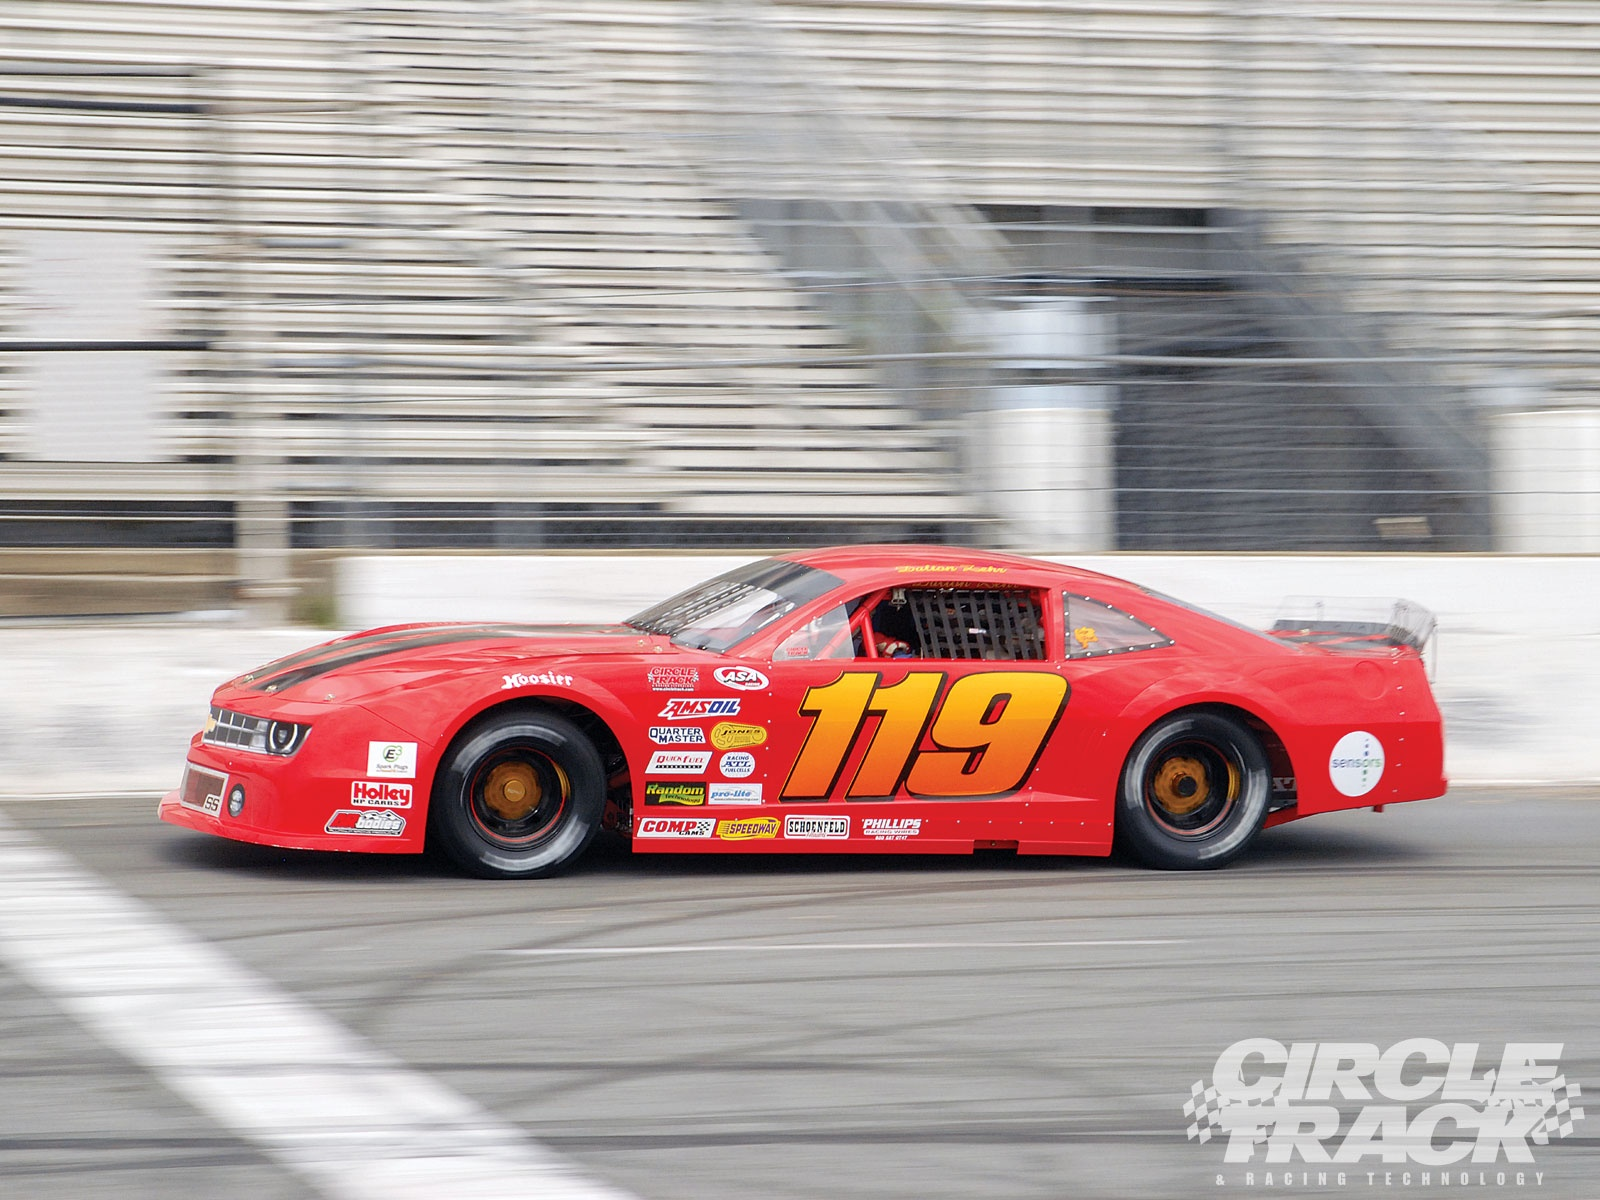racing car: (156, 509, 1494, 919)
